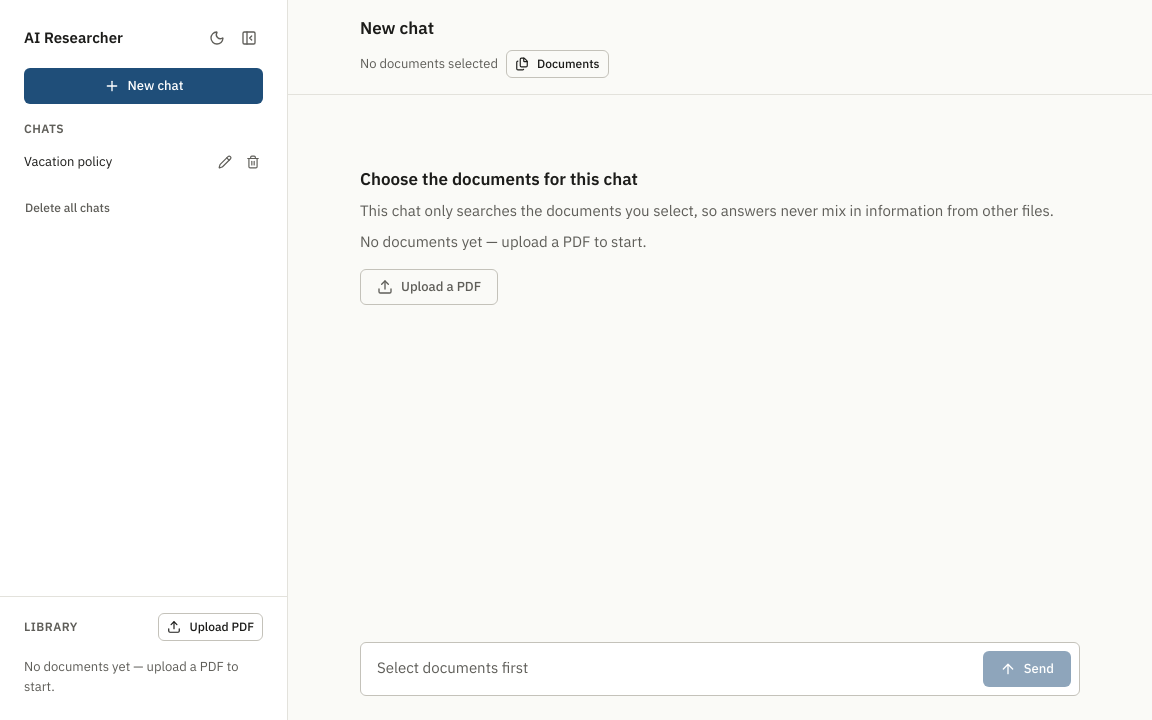
it: Sidebar › does not delete when the user cancels
Click the button named "Delete \"Vacation policy\"": {"x": 253, "y": 162} left=239, top=148, right=267, bottom=176
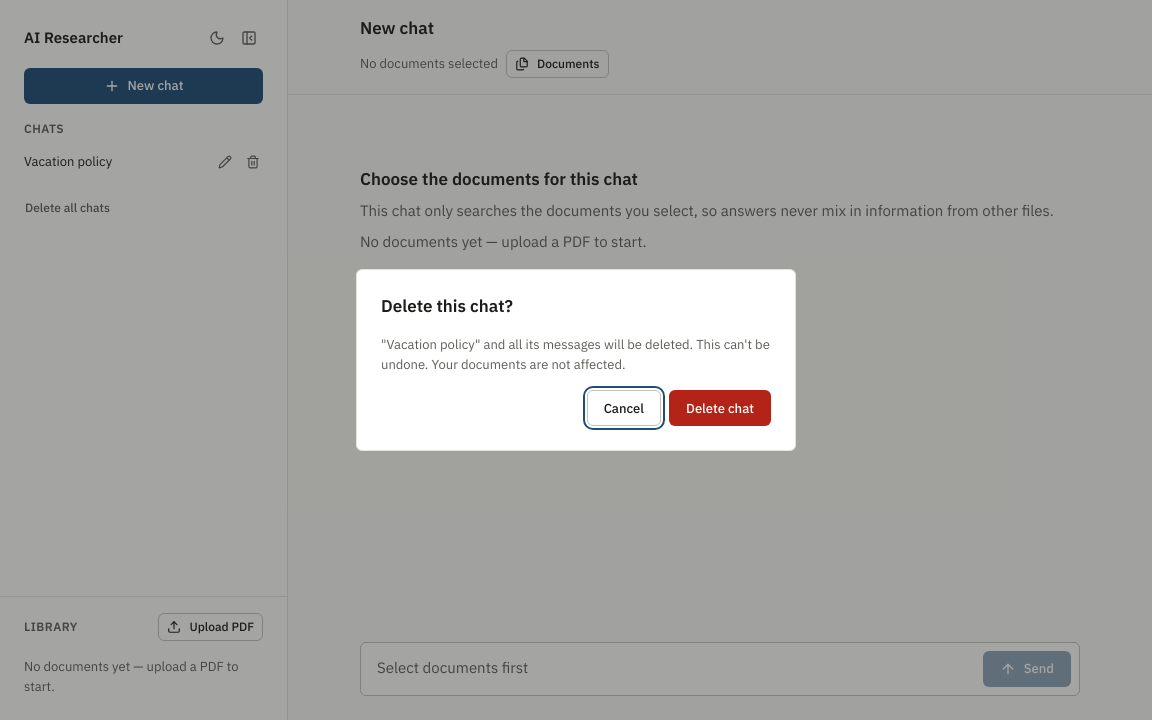
Click the button "Cancel": {"x": 624, "y": 408} left=587, top=390, right=661, bottom=426
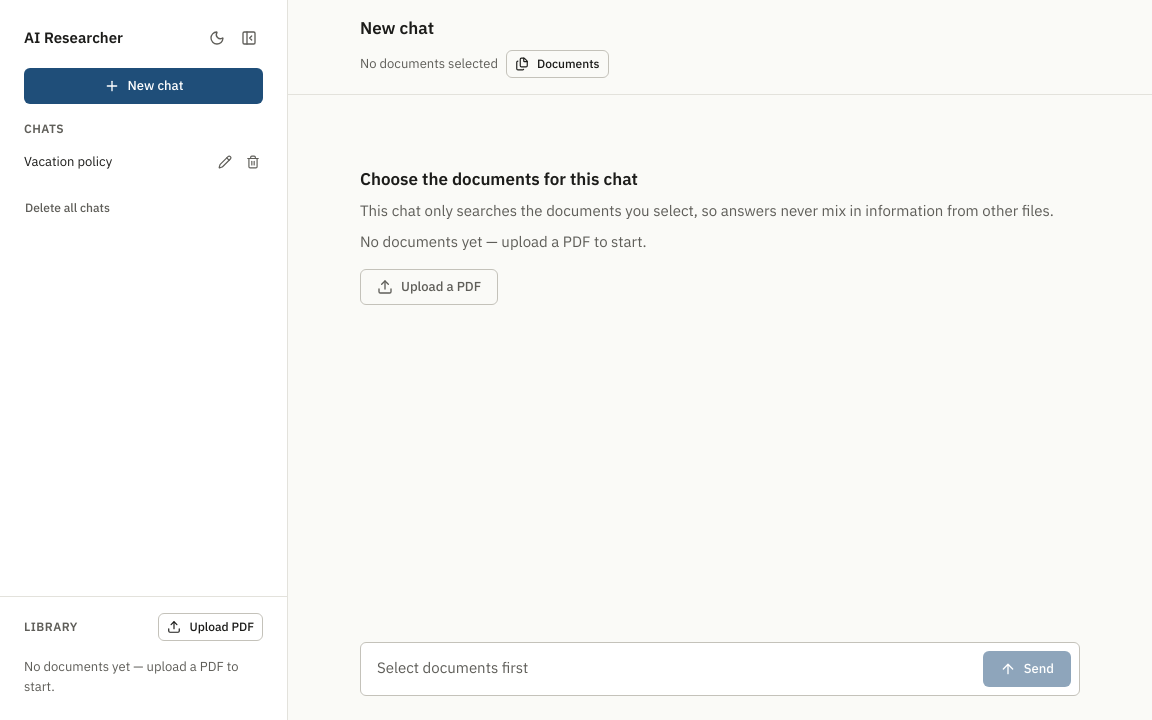
Check: the button "Vacation policy" is shown, box left=16, top=146, right=207, bottom=178
Check: the dialog is gone
